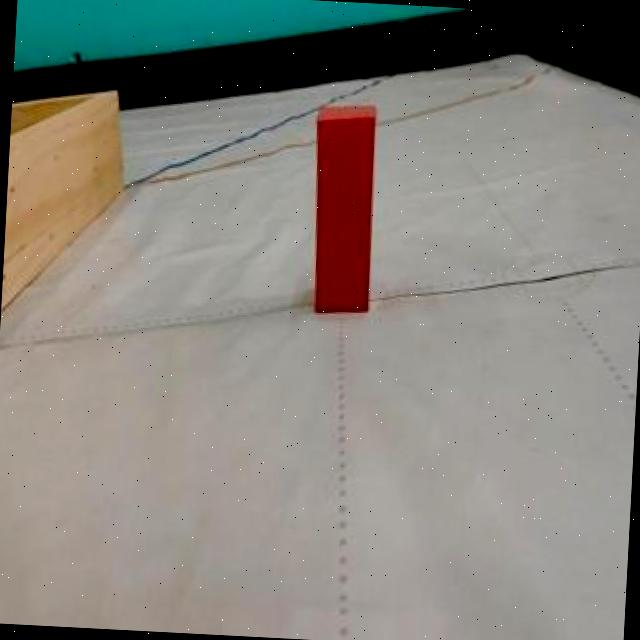redbox: (306, 99, 379, 316)
